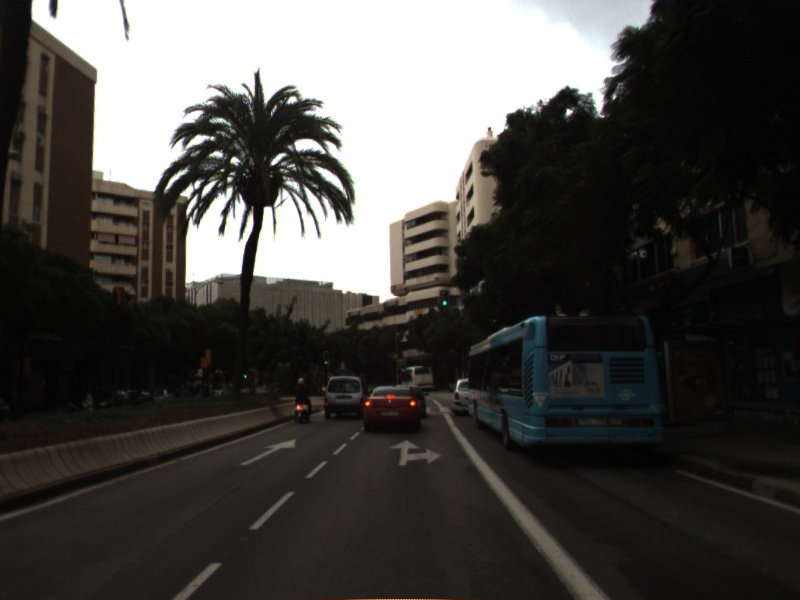STRAIGHT: (237, 437, 298, 467)
STRAIGHT_RIGHT: (388, 438, 443, 467)
